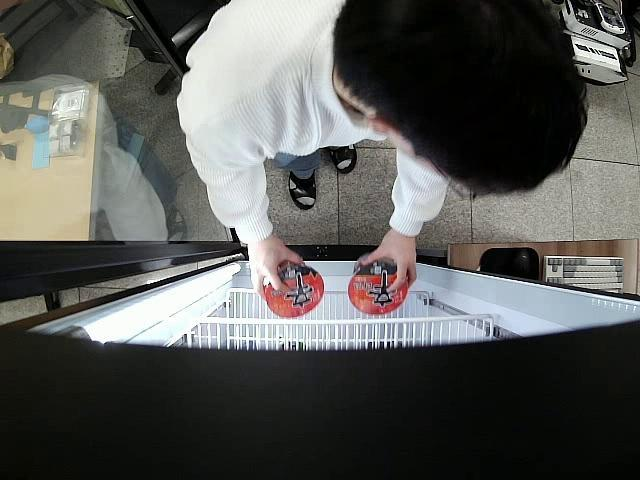01_ShinRamen_L: (262, 260, 324, 319), (345, 260, 408, 315)
